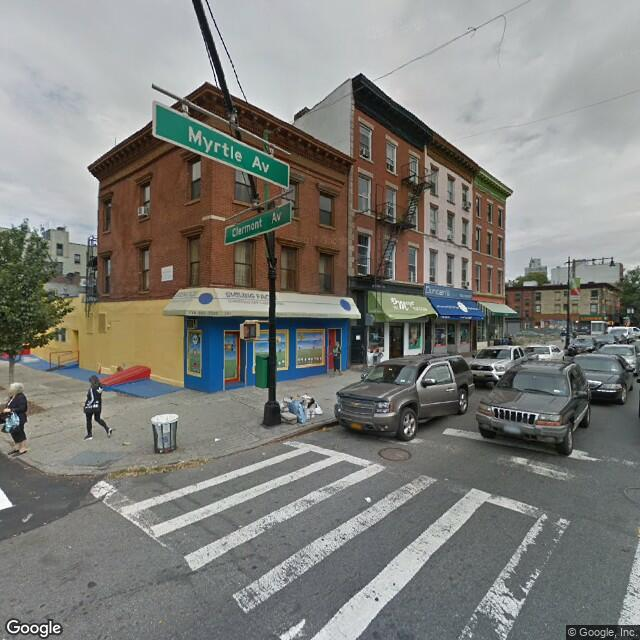litter: (275, 387, 325, 427), (209, 436, 248, 458), (110, 433, 136, 456), (350, 491, 380, 510)
